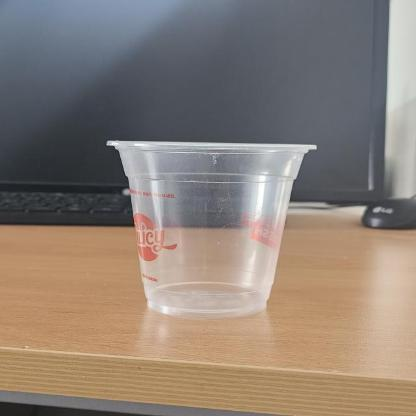Plastic Cup: (105, 140, 320, 316)
